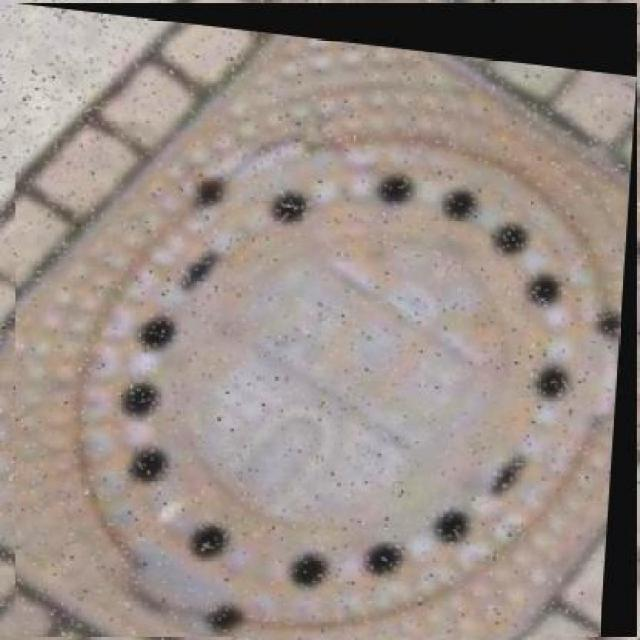Manhole: (15, 3, 638, 638)
